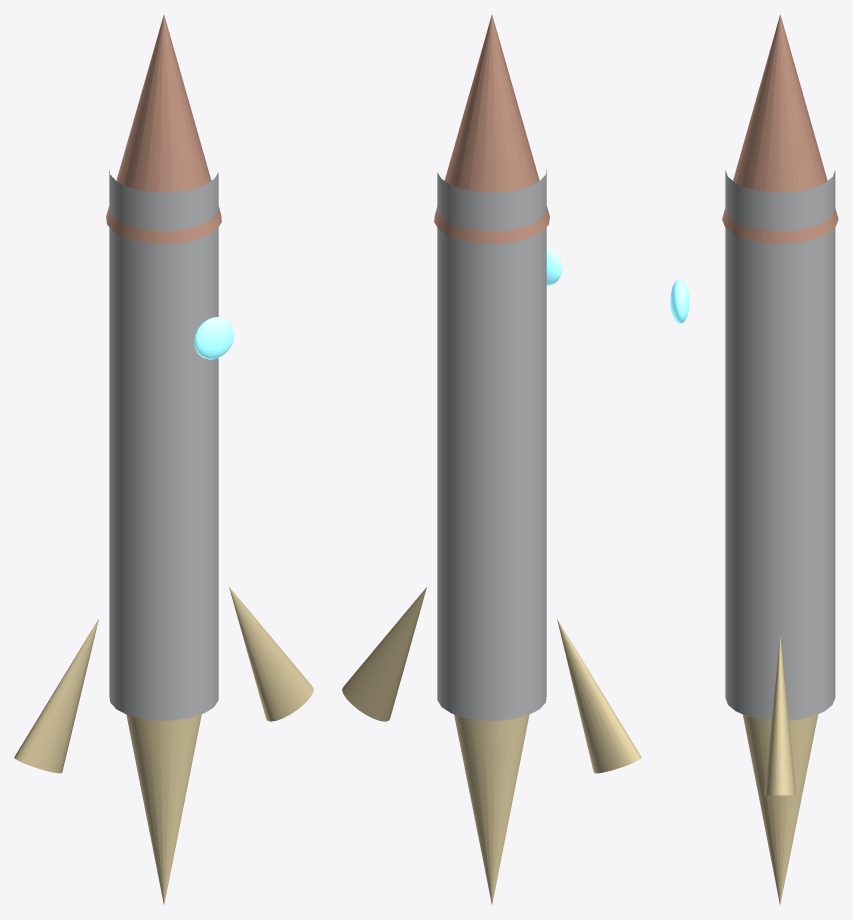
Rendered from rocket-booster-prop.glb.
3 views of the same model, side by side, from view 1: azimuth 30°, elevation 25°; view 2: azimuth 150°, elevation 25°; view 3: azimuth 270°, elevation 25° (orthographic).
Visible parts, largest first — view 1: rocket-booster-prop-rocket-body, rocket-booster-prop-rocket-nose, rocket-booster-prop-flame, rocket-booster-prop-right-fin, rocket-booster-prop-left-fin, rocket-booster-prop-window; view 2: rocket-booster-prop-rocket-body, rocket-booster-prop-rocket-nose, rocket-booster-prop-flame, rocket-booster-prop-right-fin, rocket-booster-prop-left-fin; view 3: rocket-booster-prop-rocket-body, rocket-booster-prop-rocket-nose, rocket-booster-prop-flame, rocket-booster-prop-right-fin, rocket-booster-prop-window.
Part boxes in pixels (<box>): rocket-booster-prop-rocket-body: <box>109,169,218,720</box>; rocket-booster-prop-rocket-nose: <box>106,15,221,243</box>; rocket-booster-prop-flame: <box>126,714,201,905</box>; rocket-booster-prop-right-fin: <box>229,587,313,721</box>; rocket-booster-prop-left-fin: <box>14,619,98,773</box>; rocket-booster-prop-window: <box>194,317,234,359</box>; rocket-booster-prop-rocket-body: <box>437,169,546,720</box>; rocket-booster-prop-rocket-nose: <box>434,15,549,243</box>; rocket-booster-prop-flame: <box>454,714,529,905</box>; rocket-booster-prop-right-fin: <box>342,587,426,721</box>; rocket-booster-prop-left-fin: <box>557,619,641,773</box>; rocket-booster-prop-rocket-body: <box>725,170,835,720</box>; rocket-booster-prop-rocket-nose: <box>722,14,838,243</box>; rocket-booster-prop-flame: <box>742,714,817,905</box>; rocket-booster-prop-right-fin: <box>764,635,796,795</box>; rocket-booster-prop-window: <box>670,279,689,323</box>.
Size of the model in its own units: 1.06 by 3.04 by 0.5195.
